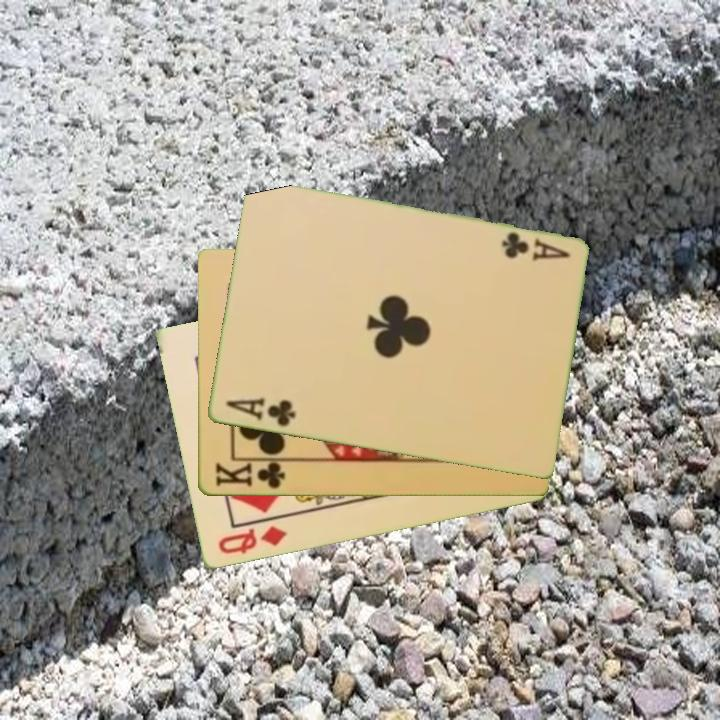Ac: (221, 394, 298, 430), (497, 228, 572, 264)
Kc: (212, 458, 291, 492)
Qd: (214, 522, 290, 558)
